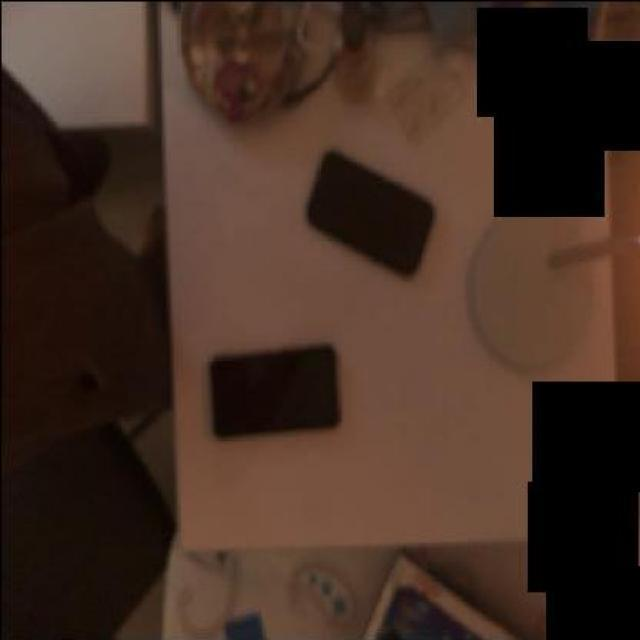phone: (309, 145, 438, 281), (213, 341, 336, 445)
